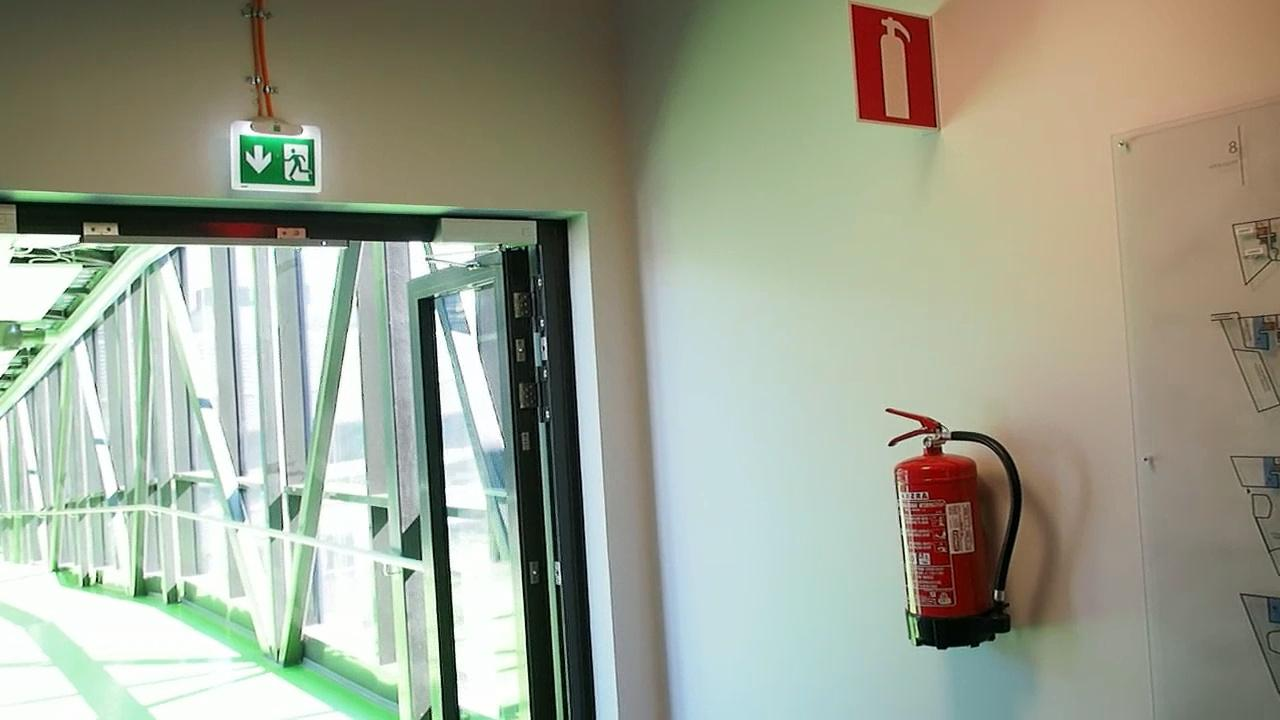exit: (229, 128, 312, 184)
fireextinguisher: (874, 407, 1021, 658), (857, 11, 940, 123)
